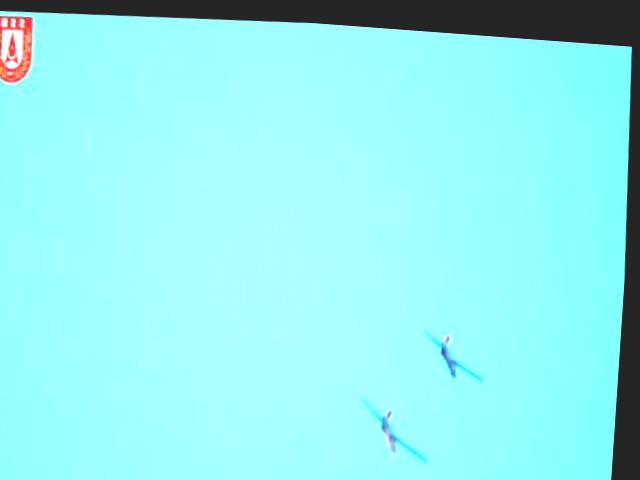uav: (360, 388, 436, 464), (423, 313, 497, 380)
